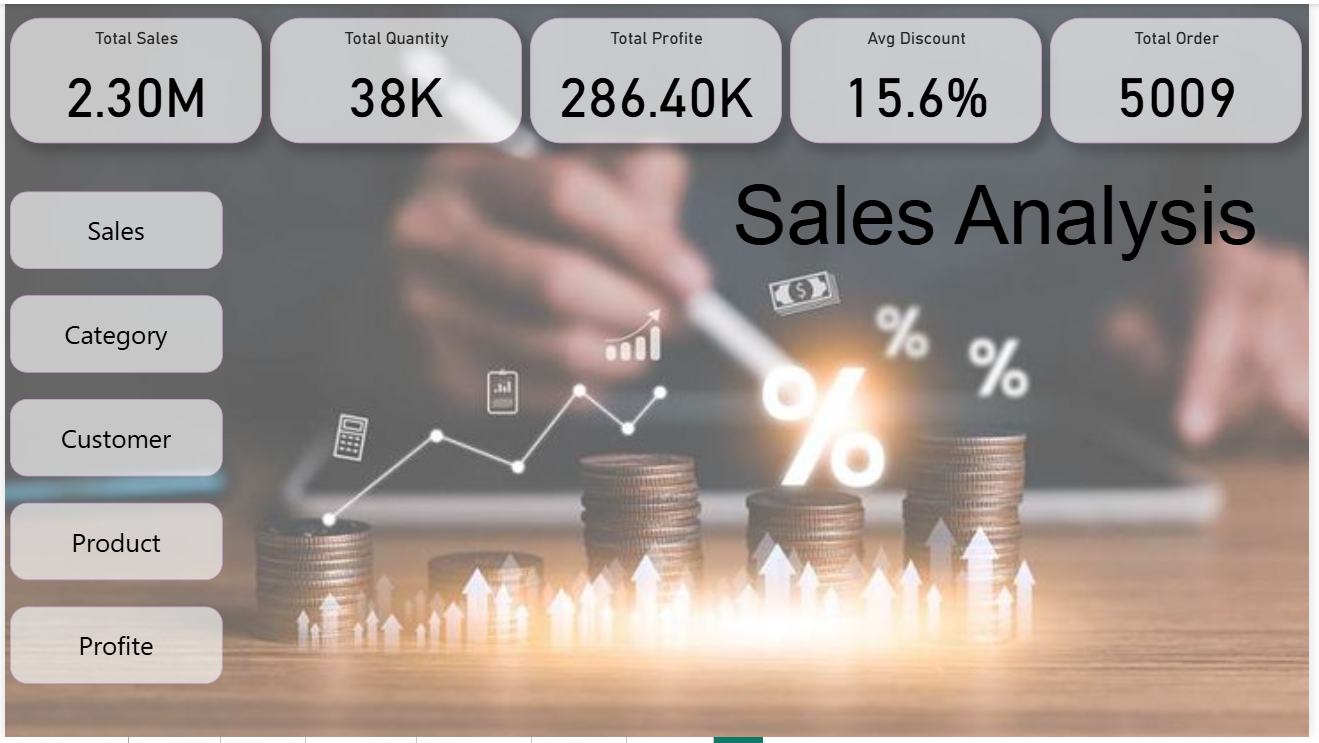

Layout of this report page (visuals, bound fields, positions):
{"tool":"powerbi","page":{"name":"Home","canvas":[1280,720],"ordinal":0},"visuals":[{"type":"card","title":"Total Sales","fields":{"Values":["DaxMeasure.Total sales"]},"box":[5.5,13.8,247,123.5],"z":0},{"type":"card","title":"Total Quantity","fields":{"Values":["DaxMeasure.Total Quantity"]},"box":[260.7,13.8,247,123.5],"z":1000},{"type":"card","title":"Total Profite","fields":{"Values":["DaxMeasure.Total Profite"]},"box":[515.8,13.8,247,123.5],"z":2000},{"type":"card","title":"Avg Discount","fields":{"Values":["DaxMeasure.Avg Discount"]},"box":[771,13.8,247,123.5],"z":3000},{"type":"card","title":"Total Order","fields":{"Values":["DaxMeasure.Total Order"]},"box":[1026.1,13.8,247,123.5],"z":4000},{"type":"textbox","box":[663.8,157.1,616,130.1],"z":5000},{"type":"actionButton","title":"Start >","box":[4.9,184.1,208.6,76.1],"z":6000},{"type":"actionButton","title":"Start >","box":[4.9,285.9,208.6,76.1],"z":7000},{"type":"actionButton","title":"Start >","box":[4.9,387.7,208.6,76.1],"z":8000},{"type":"actionButton","title":"Start >","box":[4.9,489.6,208.6,76.1],"z":9000},{"type":"actionButton","title":"Start >","box":[4.9,591.4,208.6,76.1],"z":10000}]}

Visuals, with their boxes in screenshot pixels (x1, y1, x2, y2), scaled from the page's 1280x720 canvas onto the 1319x743 screenshot:
"Total Sales" card: bbox=[6, 14, 260, 142]
"Total Quantity" card: bbox=[269, 14, 523, 142]
"Total Profite" card: bbox=[532, 14, 786, 142]
"Avg Discount" card: bbox=[794, 14, 1049, 142]
"Total Order" card: bbox=[1057, 14, 1312, 142]
textbox: bbox=[684, 162, 1318, 296]
"Start >" actionButton: bbox=[5, 190, 220, 269]
"Start >" actionButton: bbox=[5, 295, 220, 374]
"Start >" actionButton: bbox=[5, 400, 220, 479]
"Start >" actionButton: bbox=[5, 505, 220, 584]
"Start >" actionButton: bbox=[5, 610, 220, 689]
